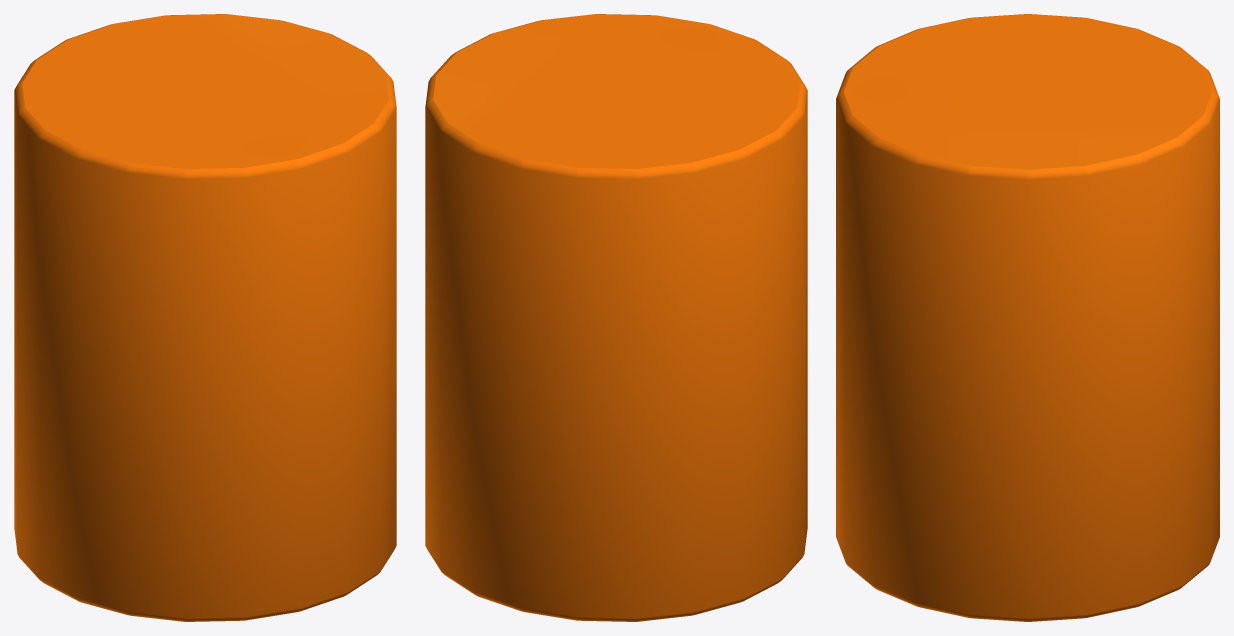
File: CylinderYellow.fbx
3 views of the same model, side by side, from view 1: azimuth 30°, elevation 25°; view 2: azimuth 150°, elevation 25°; view 3: azimuth 270°, elevation 25° (orthographic).
Visible parts, largest first — view 1: Cylinder; view 2: Cylinder; view 3: Cylinder.
Boxes of the visible parts, left/top/right/bottom form: Cylinder: left=14, top=14, right=396, bottom=621; Cylinder: left=425, top=14, right=807, bottom=621; Cylinder: left=836, top=14, right=1219, bottom=621.
Bounding box in the file's own units: 2 × 2.6 × 2.
